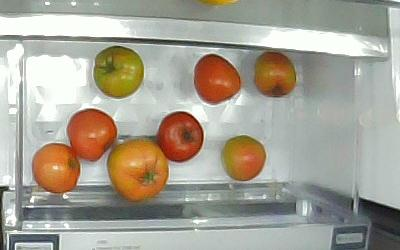tomato: (110, 138, 169, 201), (94, 45, 144, 99), (67, 109, 117, 163), (32, 143, 83, 194), (192, 55, 244, 105), (158, 112, 204, 163), (221, 133, 267, 181), (256, 52, 298, 98)
